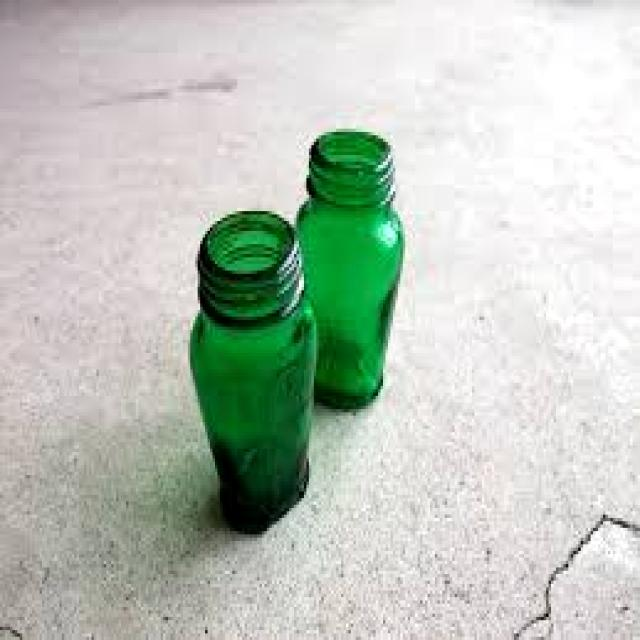Glass: (188, 208, 322, 533), (296, 129, 406, 415)
